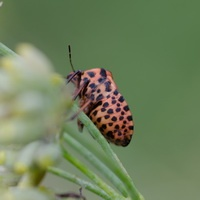insect: (67, 68, 133, 145)
